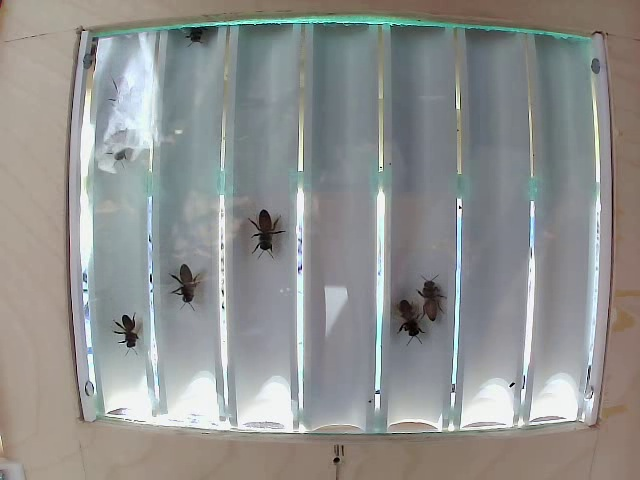bee: (245, 198, 294, 264), (167, 260, 213, 305), (106, 306, 149, 350), (418, 278, 445, 324), (385, 299, 417, 330)
